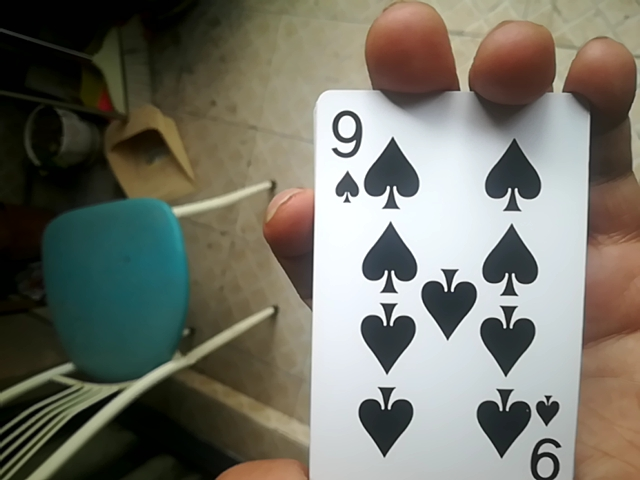ht 9: (320, 77, 586, 480)
